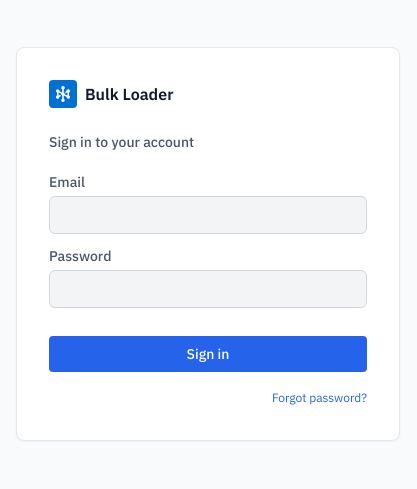
Test: Login page › shows generic error on non-401 failures
The image size is (417, 489).
In the field labelled "Email": (208, 215) [49, 196, 367, 234], type "alice@example.com"
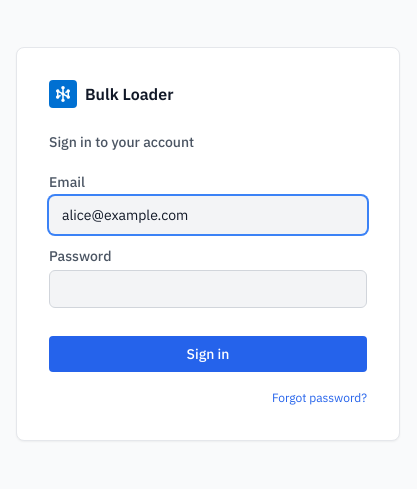
In the password field labelled "Password": (208, 289) [49, 270, 367, 308], type "pw"
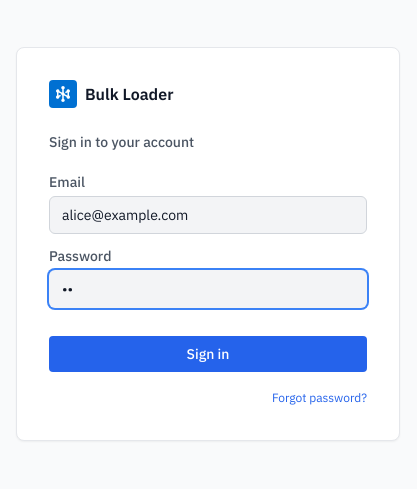
Click the button "Sign in": (208, 354) [49, 336, 367, 372]
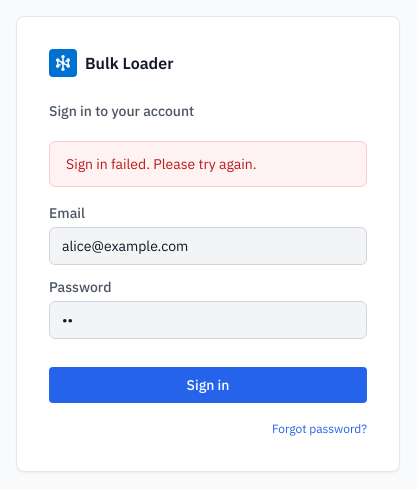
Expected: the message shows "Sign in failed", [66, 155, 257, 173]
